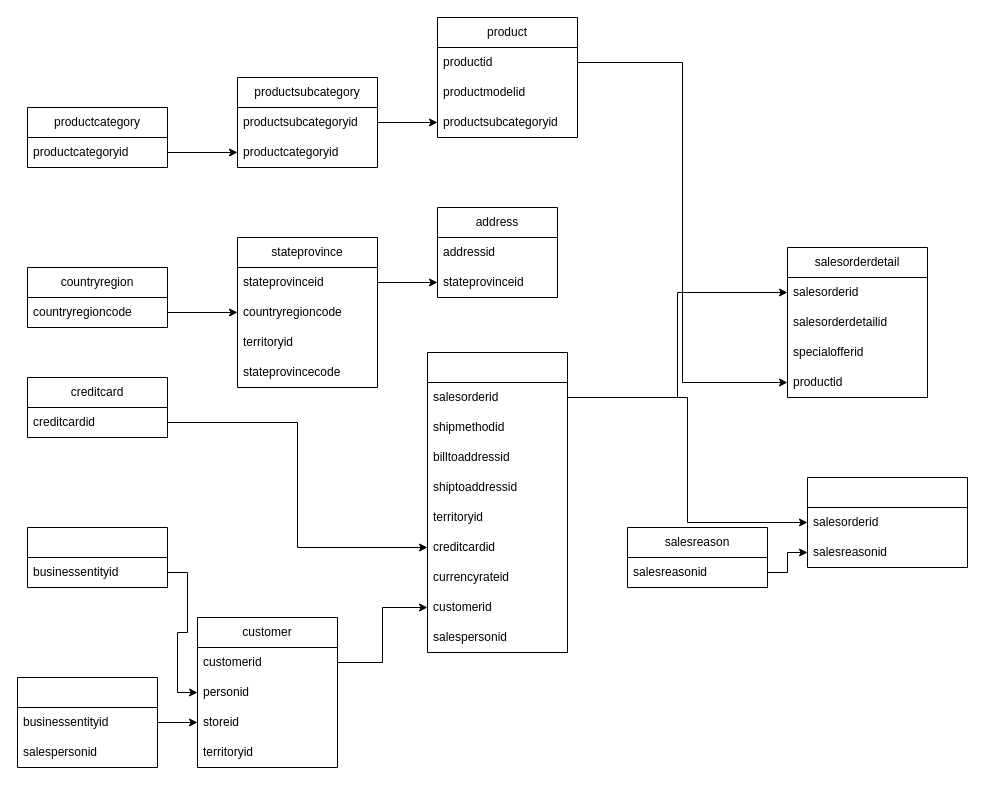
The diagram is 985 pixels wide and 785 high, and some of its shapes have lost their labels. The shapes that lost their labels are listed below. From the top down, each one's box as (x1, y1, x2, y2) in pixels, then its label:
(426, 352, 568, 652): salesorderheader
(806, 476, 968, 568): salesorderheadersalesreason
(26, 526, 168, 588): person
(16, 676, 158, 768): store
